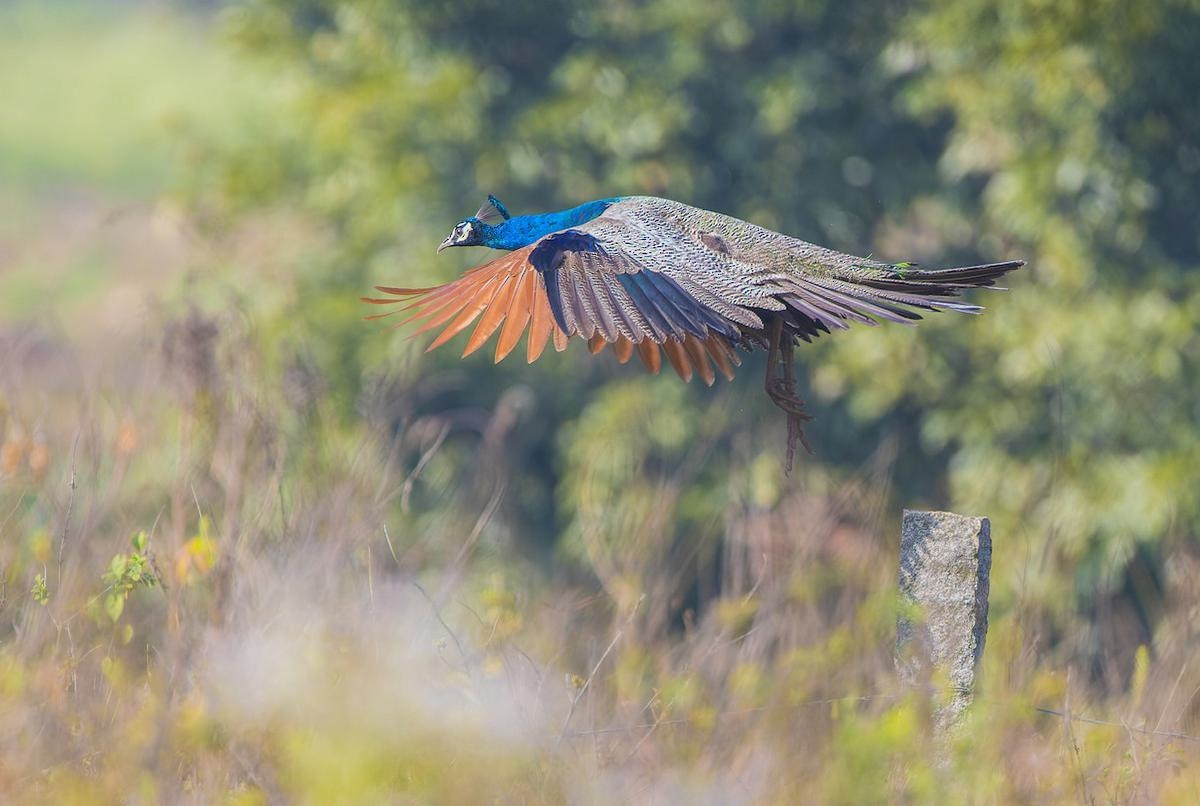peacock: (389, 145, 989, 385)
